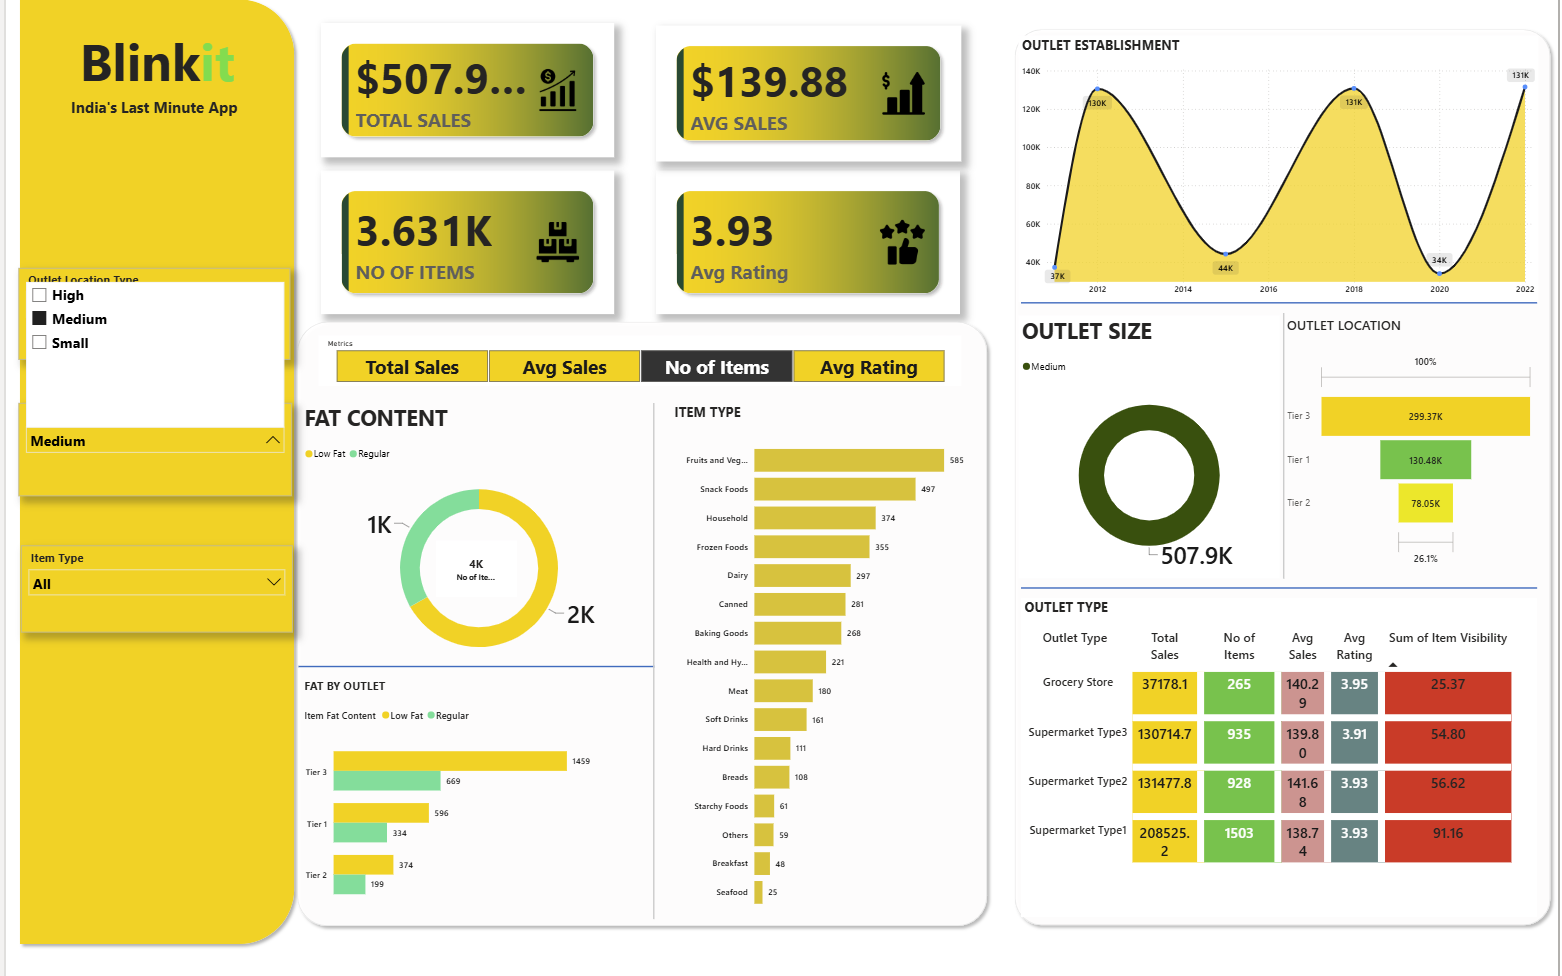

What the dashboard file says about the page in this screenshot:
{"tool":"powerbi","page":{"name":"Page 1","canvas":[2200,1400],"ordinal":0},"visuals":[{"type":"shape","box":[10.8,0,406.9,1357.1],"z":0},{"type":"textbox","box":[10.8,43.3,406.9,142.9],"z":1000},{"type":"textbox","box":[2.2,140.7,413.4,71.4],"z":2000},{"type":"cardVisual","fields":{"Data":["BlinkIT Grocery Data.No of Items"]},"box":[445.9,253.2,415.6,203.5],"z":3000},{"type":"cardVisual","fields":{"Data":["BlinkIT Grocery Data.Total Sales"]},"box":[445.9,43.3,415.6,190.5],"z":4000},{"type":"cardVisual","fields":{"Data":["BlinkIT Grocery Data.Avg Rating"]},"box":[922.1,253.2,430.7,203.5],"z":5000},{"type":"cardVisual","fields":{"Data":["BlinkIT Grocery Data.Avg Sales"]},"box":[919.9,45.5,432.9,192.6],"z":6000},{"type":"shape","box":[404.8,456.7,995.7,874.5],"z":7000},{"type":"donutChart","title":"FAT CONTENT","fields":{"Y":["BlinkIT Grocery Data.Avg Sales"],"Category":["BlinkIT Grocery Data.Item Fat Content"]},"box":[419.9,582.3,504.3,387.4],"z":8000},{"type":"slicer","fields":{"Values":["Metrics 2.Metrics"]},"box":[441.6,484.9,911.3,71.4],"z":9000},{"type":"cardVisual","fields":{"Data":["BlinkIT Grocery Data.Avg Sales"]},"box":[610.4,777.1,114.7,80.1],"z":10000},{"type":"clusteredBarChart","title":"FAT BY OUTLET","fields":{"Y":["BlinkIT Grocery Data.Avg Sales"],"Category":["BlinkIT Grocery Data.Outlet Location Type"],"Series":["BlinkIT Grocery Data.Item Fat Content"]},"box":[417.8,969.7,504.3,344.2],"z":11000},{"type":"shape","box":[415.6,893.9,504.3,123.4],"z":12000},{"type":"shape","box":[898.3,582.3,43.3,731.6],"z":13000},{"type":"barChart","title":"ITEM TYPE","fields":{"Y":["BlinkIT Grocery Data.Avg Sales"],"Category":["BlinkIT Grocery Data.Item Type"]},"box":[941.6,582.3,419.9,731.6],"z":14000},{"type":"shape","box":[1422.1,43.3,777.1,1287.9],"z":15000},{"type":"lineChart","title":"OUTLET ESTABLISHMENT","fields":{"Y":["BlinkIT Grocery Data.Total Sales"],"Category":["BlinkIT Grocery Data.Outlet Establishment Year"]},"box":[1434.5,61.9,736.8,378.2],"z":16000},{"type":"shape","box":[1439.4,333.3,731.6,212.1],"z":17000},{"type":"donutChart","title":"OUTLET SIZE","fields":{"Category":["BlinkIT Grocery Data.Outlet Size"],"Y":["BlinkIT Grocery Data.Total Sales"]},"box":[1435.1,456.7,370.1,372.3],"z":18000},{"type":"shape","box":[1774.9,452.4,71.4,376.6],"z":19000},{"type":"funnel","title":"OUTLET LOCATION","fields":{"Y":["Sum(BlinkIT Grocery Data.Sales)"],"Category":["BlinkIT Grocery Data.Outlet Location Type"]},"box":[1811.7,456.7,359.3,372.3],"z":20000},{"type":"shape","box":[1439.4,803,731.6,77.9],"z":21000},{"type":"pivotTable","title":"OUTLET TYPE","fields":{"Rows":["BlinkIT Grocery Data.Outlet Type"],"Values":["BlinkIT Grocery Data.Total Sales","BlinkIT Grocery Data.No of Items","BlinkIT Grocery Data.Avg Sales","BlinkIT Grocery Data.Avg Rating","Sum(BlinkIT Grocery Data.Item Visibility)"]},"box":[1439.4,859.3,731.6,452.4],"z":22000},{"type":"slicer","fields":{"Values":["BlinkIT Grocery Data.Outlet Location Type"]},"box":[19.5,389.6,385.3,129.9],"z":23000},{"type":"slicer","fields":{"Values":["BlinkIT Grocery Data.Outlet Size"]},"box":[19.5,582.3,387.4,132],"z":24000},{"type":"slicer","fields":{"Values":["BlinkIT Grocery Data.Item Type"]},"box":[21.6,783.6,385.3,123.4],"z":25000}]}

Visuals, with their boxes in screenshot pixels (x1, y1, x2, y2), scaled from the page's 2200x1400 canvas onto the 1562x976 screenshot:
shape: (x1=8, y1=0, x2=297, y2=946)
textbox: (x1=8, y1=30, x2=297, y2=130)
textbox: (x1=2, y1=98, x2=295, y2=148)
cardVisual - BlinkIT Grocery Data.No of Items: (x1=317, y1=177, x2=612, y2=318)
cardVisual - BlinkIT Grocery Data.Total Sales: (x1=317, y1=30, x2=612, y2=163)
cardVisual - BlinkIT Grocery Data.Avg Rating: (x1=655, y1=177, x2=960, y2=318)
cardVisual - BlinkIT Grocery Data.Avg Sales: (x1=653, y1=32, x2=960, y2=166)
shape: (x1=287, y1=318, x2=994, y2=928)
"FAT CONTENT" donutChart: (x1=298, y1=406, x2=656, y2=676)
slicer - Metrics 2.Metrics: (x1=314, y1=338, x2=961, y2=388)
cardVisual - BlinkIT Grocery Data.Avg Sales: (x1=433, y1=542, x2=515, y2=598)
"FAT BY OUTLET" clusteredBarChart: (x1=297, y1=676, x2=655, y2=916)
shape: (x1=295, y1=623, x2=653, y2=709)
shape: (x1=638, y1=406, x2=669, y2=916)
"ITEM TYPE" barChart: (x1=669, y1=406, x2=967, y2=916)
shape: (x1=1010, y1=30, x2=1561, y2=928)
"OUTLET ESTABLISHMENT" lineChart: (x1=1018, y1=43, x2=1542, y2=307)
shape: (x1=1022, y1=232, x2=1541, y2=380)
"OUTLET SIZE" donutChart: (x1=1019, y1=318, x2=1282, y2=578)
shape: (x1=1260, y1=315, x2=1311, y2=578)
"OUTLET LOCATION" funnel: (x1=1286, y1=318, x2=1541, y2=578)
shape: (x1=1022, y1=560, x2=1541, y2=614)
"OUTLET TYPE" pivotTable: (x1=1022, y1=599, x2=1541, y2=914)
slicer - BlinkIT Grocery Data.Outlet Location Type: (x1=14, y1=272, x2=287, y2=362)
slicer - BlinkIT Grocery Data.Outlet Size: (x1=14, y1=406, x2=289, y2=498)
slicer - BlinkIT Grocery Data.Item Type: (x1=15, y1=546, x2=289, y2=632)
